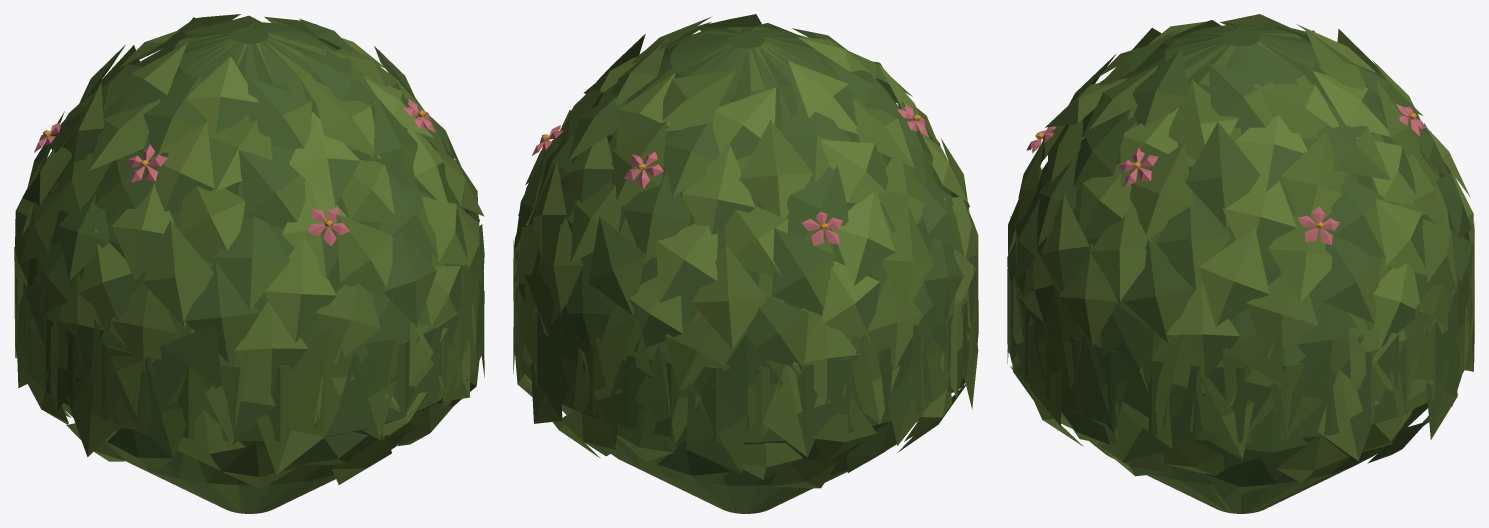
The model's file is shrub_leafy.glb.
3 renders of one model, left to right at view 1: azimuth 30°, elevation 25°; view 2: azimuth 150°, elevation 25°; view 3: azimuth 270°, elevation 25°, orthographic.
Visible parts, largest first — view 1: body; view 2: body; view 3: body.
Part boxes in pixels (x1,y1,x2,y2): body: [14, 14, 484, 513]; body: [513, 14, 978, 513]; body: [1007, 14, 1474, 513].
Bounding box in the file's own units: 1.1 × 1.2 × 1.1.
